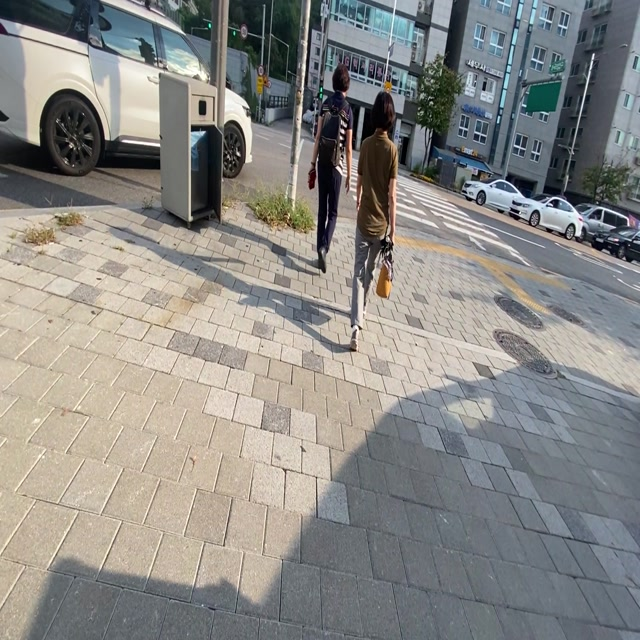Pedestrian: (349, 98, 397, 347), (309, 65, 353, 269), (372, 89, 394, 137)
Vehicle: (0, 0, 213, 173), (225, 48, 294, 113), (509, 195, 584, 238), (462, 179, 523, 213), (582, 207, 634, 241), (602, 228, 637, 258), (593, 227, 635, 249)
